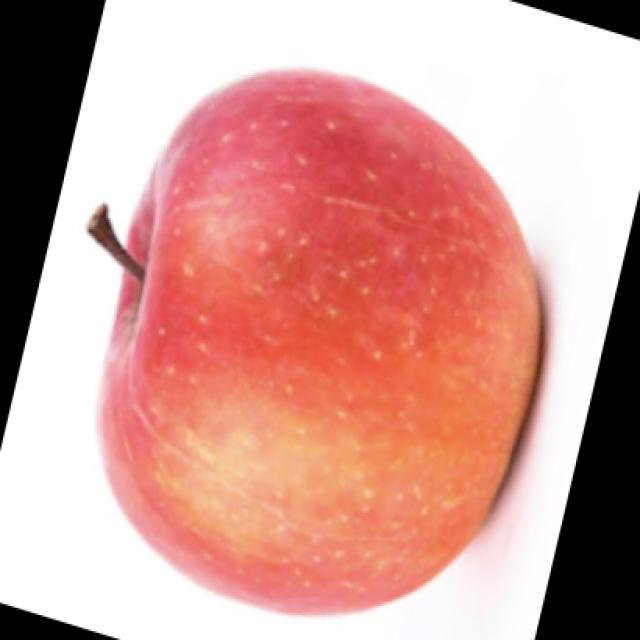Fresh Apple: (92, 80, 543, 617)
